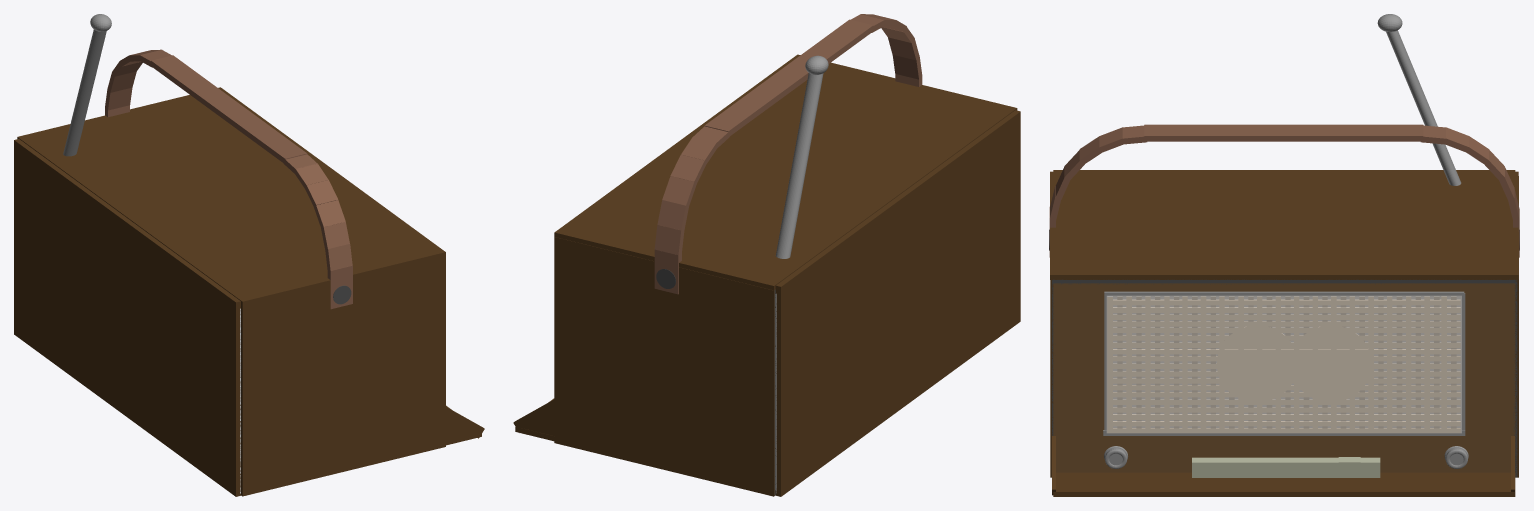
The model's file is Radio.fbx.
The picture shows the model from 3 angles, left to right: view 1: azimuth 30°, elevation 25°; view 2: azimuth 150°, elevation 25°; view 3: azimuth 270°, elevation 25°; orthographic projection. The views are drawn at different scales.
Visible parts, largest first — view 1: Cube.109, Cube.106, Cube.108, Cube.105, Cylinder.006, Cube.098, Cube.095, Cube.093, Cube.099, Cube.102, Cube.014; view 2: Cube.109, Cube.107, Cube.106, Cube.105, Cylinder.006, Cube.096, Cube.097, Cube.094, Cube.100, Cube.101, Cube.012; view 3: Cube.106, Cube, Cube.005, Cube.007, Cube.105, Cube.001, Cube.008, Cylinder.006, Cube.033, Cube.049, Cube.032, Cube.035 (+42 smaller).
Part boxes in pixels (x1,y1,x2,y2): Cube.109: (14, 139, 240, 496); Cube.106: (17, 87, 445, 306); Cube.108: (241, 257, 445, 496); Cube.105: (151, 55, 307, 163); Cylinder.006: (63, 29, 106, 156); Cube.098: (314, 200, 345, 228); Cube.095: (321, 222, 349, 249); Cube.093: (325, 244, 352, 271); Cube.099: (305, 180, 338, 207); Cube.102: (294, 163, 328, 188); Cube.014: (446, 407, 484, 438); Cube.109: (775, 110, 1020, 496); Cube.107: (554, 237, 774, 496); Cube.106: (554, 54, 1017, 290); Cube.105: (704, 19, 873, 137); Cylinder.006: (775, 73, 823, 258); Cube.096: (657, 200, 688, 230); Cube.097: (662, 176, 696, 205); Cube.094: (654, 225, 684, 255); Cube.100: (670, 154, 706, 183); Cube.101: (681, 137, 717, 163); Cube.012: (513, 399, 554, 429); Cube.106: (1050, 171, 1518, 279); Cube: (1053, 283, 1515, 472); Cube.005: (1053, 472, 1515, 496); Cube.007: (1106, 295, 1461, 433); Cube.105: (1144, 124, 1423, 141); Cube.001: (1053, 279, 1515, 284); Cube.008: (1104, 291, 1464, 297); Cylinder.006: (1386, 30, 1461, 185); Cube.033: (1107, 428, 1460, 433); Cube.049: (1113, 299, 1460, 305); Cube.032: (1113, 414, 1460, 419); Cube.035: (1113, 407, 1460, 412).
Bounding box in the file's own units: 99.25 × 136 × 157.
